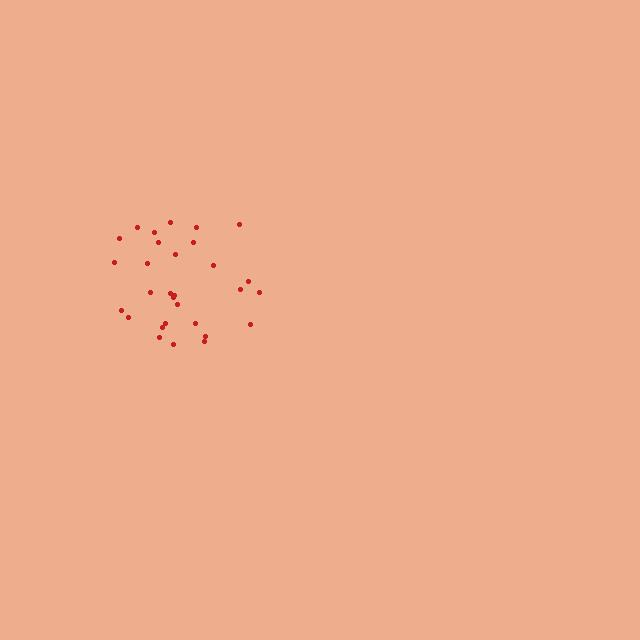abrasion: (114, 220, 261, 345)
